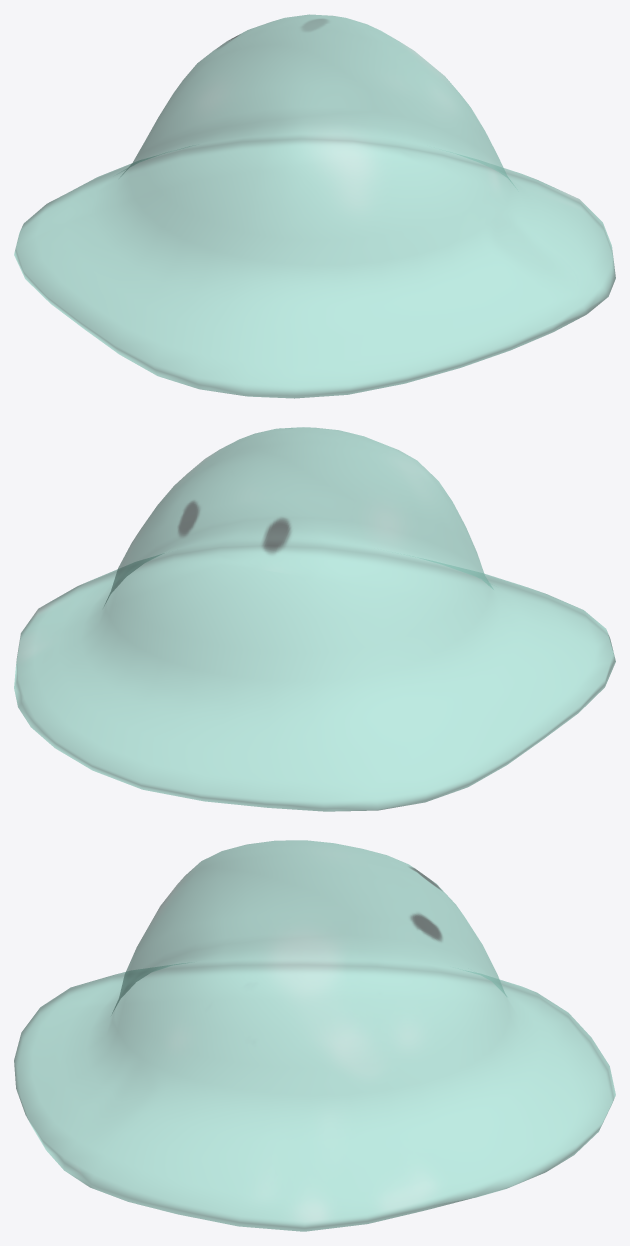
File: Slime_Move_HeighPoly.fbx
3 renders of one model, top to bottom at view 1: azimuth 30°, elevation 25°; view 2: azimuth 150°, elevation 25°; view 3: azimuth 270°, elevation 25°, orthographic. The views are drawn at different scales.
Parts seen in each view (by area): view 1: SlimeMesh; view 2: SlimeMesh; view 3: SlimeMesh.
Part boxes in pixels (x1,y1,x2,y2): SlimeMesh: (14, 14, 615, 398); SlimeMesh: (14, 427, 615, 811); SlimeMesh: (14, 840, 615, 1231).
Bounding box in the file's own units: 12.57 × 5.85 × 12.53.
1 material, 1 textured.
